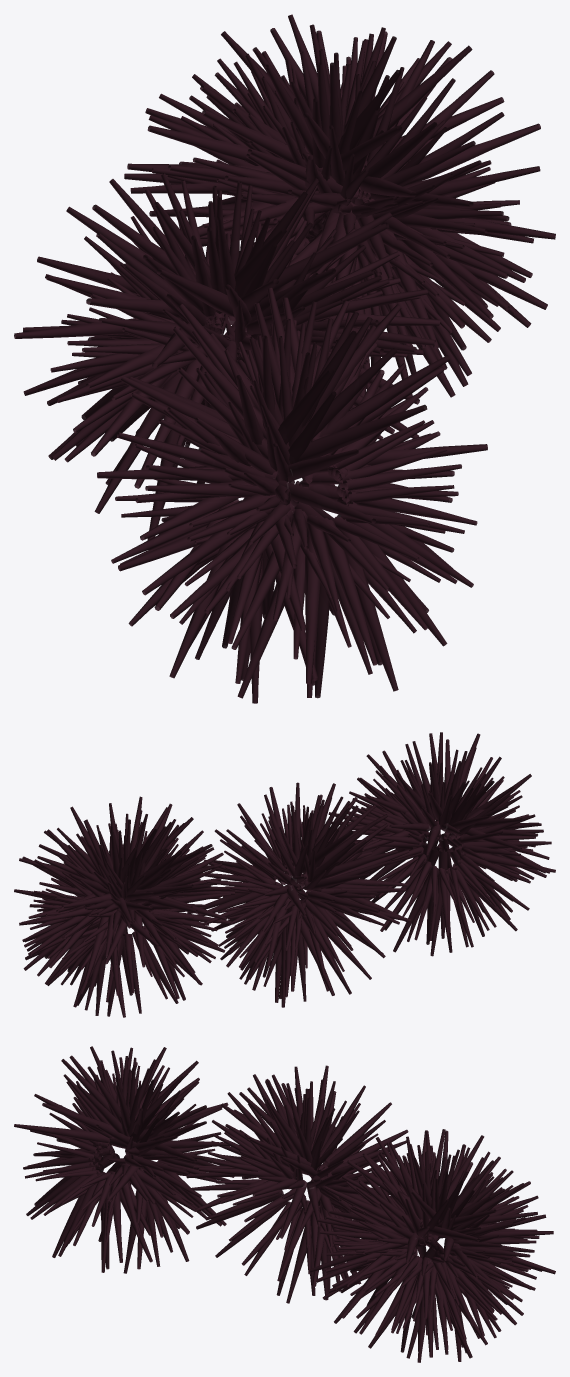
File: urchin.fbx
3 renders of one model, top to bottom at view 1: azimuth 30°, elevation 25°; view 2: azimuth 150°, elevation 25°; view 3: azimuth 270°, elevation 25°, orthographic. The views are drawn at different scales.
Visible parts, largest first — view 1: seaUrchin1Flower3; view 2: seaUrchin1Flower3; view 3: seaUrchin1Flower3.
Part boxes in pixels (x1=…): seaUrchin1Flower3: x1=14, y1=14, x2=555, y2=703; seaUrchin1Flower3: x1=14, y1=732, x2=555, y2=1017; seaUrchin1Flower3: x1=14, y1=1046, x2=555, y2=1362.
Size of the model in its own units: 4.08 by 2.13 by 5.01.
